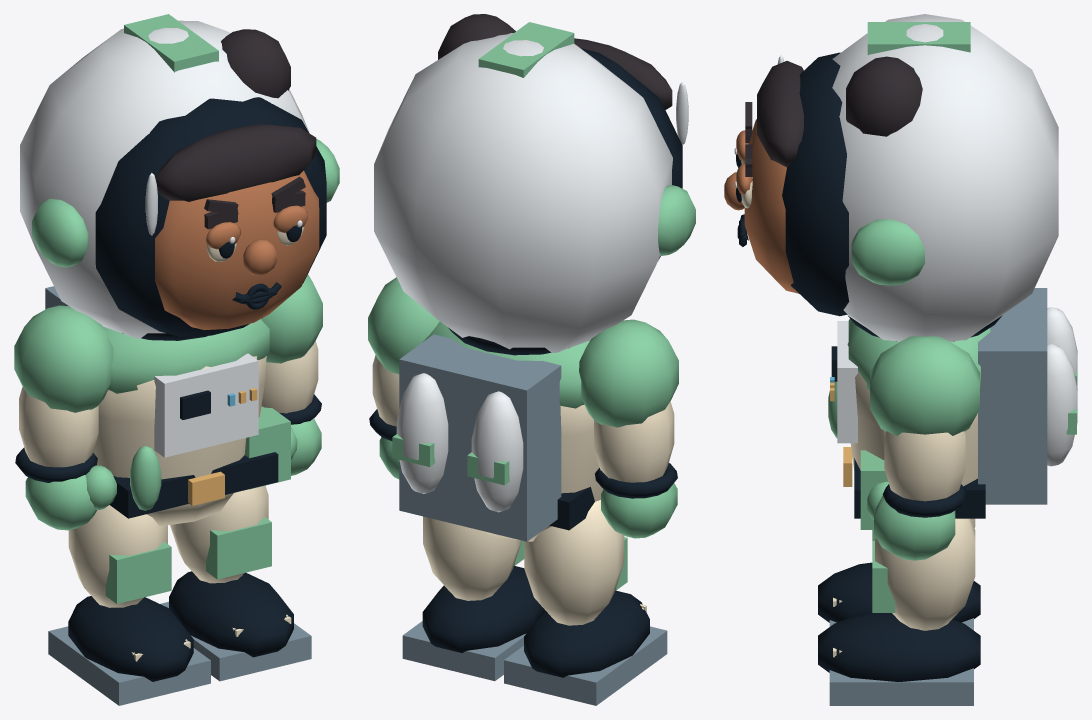
Rendered from crew-ria.glb.
3 renders of one model, left to right at view 1: azimuth 30°, elevation 25°; view 2: azimuth 150°, elevation 25°; view 3: azimuth 270°, elevation 25°, orthographic. The views are drawn at different scales.
Parts seen in each view (by area): view 1: helmet-shell, visor-gasket, boot (×2), face, shoulder (×2), leg-pressure (×2), hairline, pressure-suit, chest-panel, sleeve (×2), sole (×2), shoulder-yoke (+15 smaller); view 2: helmet-shell, life-pack, leg-pressure (×2), boot (×2), shoulder (×2), air-cell (×2), sole (×2), sleeve (×2), glove (×2), pressure-suit, helmet-crown, shoulder-yoke (+9 smaller); view 3: helmet-shell, life-pack, visor-gasket, boot (×2), shoulder, leg-pressure, sleeve, hair-bun, face, air-cell (×2), sole, hairline (+10 smaller).
Boxes of the visible parts, <box> form: helmet-shell: <box>20,20,309,340</box>; visor-gasket: <box>95,97,326,336</box>; boot (×2): <box>68,571,293,681</box>; face: <box>155,170,319,330</box>; shoulder (×2): <box>14,274,322,412</box>; leg-pressure (×2): <box>68,485,268,607</box>; hairline: <box>156,124,316,201</box>; pressure-suit: <box>93,356,266,525</box>; chest-panel: <box>154,353,258,457</box>; sleeve (×2): <box>19,341,318,467</box>; sole (×2): <box>48,601,311,705</box>; shoulder-yoke: <box>102,319,269,393</box>; helmet-shell: <box>374,33,672,355</box>; life-pack: <box>399,334,561,541</box>; leg-pressure (×2): <box>423,500,624,625</box>; boot (×2): <box>422,565,649,677</box>; shoulder (×2): <box>368,277,678,427</box>; air-cell (×2): <box>396,373,523,512</box>; sole (×2): <box>402,621,667,705</box>; sleeve (×2): <box>372,355,674,482</box>; glove (×2): <box>379,437,677,538</box>; pressure-suit: <box>480,404,603,541</box>; helmet-crown: <box>478,22,574,77</box>; shoulder-yoke: <box>423,321,589,408</box>; helmet-shell: <box>832,14,1058,341</box>; life-pack: <box>978,288,1047,504</box>; visor-gasket: <box>782,52,849,316</box>; boot (×2): <box>818,562,980,681</box>; shoulder: <box>870,336,979,435</box>; leg-pressure: <box>875,518,975,630</box>; sleeve: <box>884,431,965,501</box>; hair-bun: <box>846,56,922,136</box>; face: <box>744,119,798,293</box>; air-cell (×2): <box>1047,307,1077,466</box>; sole: <box>829,668,973,705</box>; hairline: <box>757,61,803,167</box>.
Bounding box in the file's own units: 1.35 × 2.7 × 1.37.
